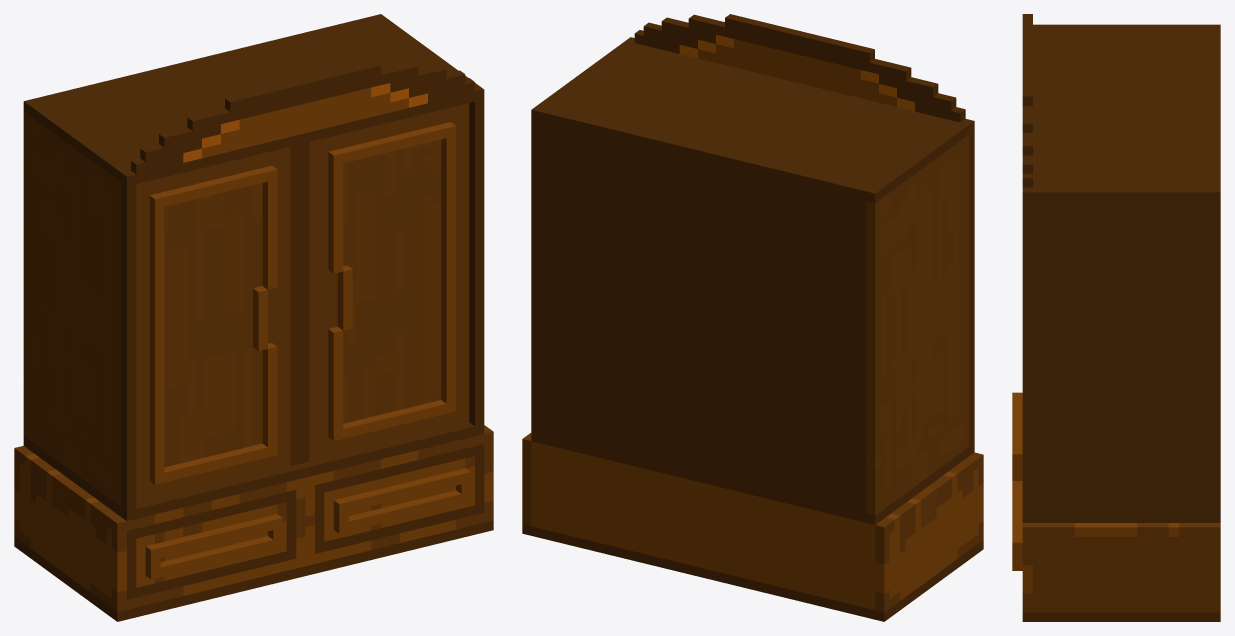
File: Wardrobe.obj
3 views of the same model, side by side, from view 1: azimuth 30°, elevation 25°; view 2: azimuth 150°, elevation 25°; view 3: azimuth 270°, elevation 25° (orthographic). The views are drawn at different scales.
Parts seen in each view (by area): view 1: ObjObject.001; view 2: ObjObject.001; view 3: ObjObject.001.
Boxes of the visible parts, x1=… form: ObjObject.001: x1=14, y1=14, x2=493, y2=621; ObjObject.001: x1=522, y1=14, x2=983, y2=621; ObjObject.001: x1=1012, y1=14, x2=1220, y2=621.
Size of the model in its own units: 4 by 5 by 2.
Materials: 1 (1 with a texture image).
